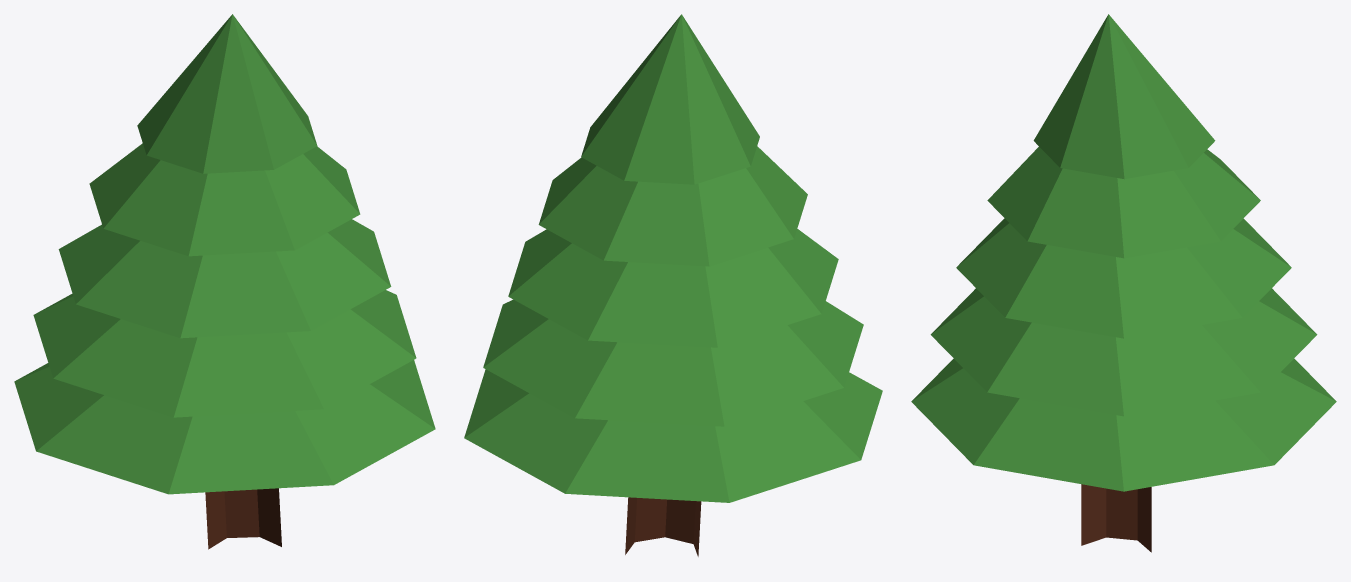
Rendered from Arbre2.glb.
The picture shows the model from 3 angles, left to right: view 1: azimuth 30°, elevation 25°; view 2: azimuth 150°, elevation 25°; view 3: azimuth 270°, elevation 25°; orthographic projection. The views are drawn at different scales.
Parts seen in each view (by area): view 1: Tree_lp_11; view 2: Tree_lp_11; view 3: Tree_lp_11.
Part boxes in pixels (x1,y1,x2,y2): Tree_lp_11: [14, 14, 435, 549]; Tree_lp_11: [464, 14, 882, 556]; Tree_lp_11: [911, 14, 1336, 552].
Size of the model in its own units: 11.51 by 15.85 by 11.51.
